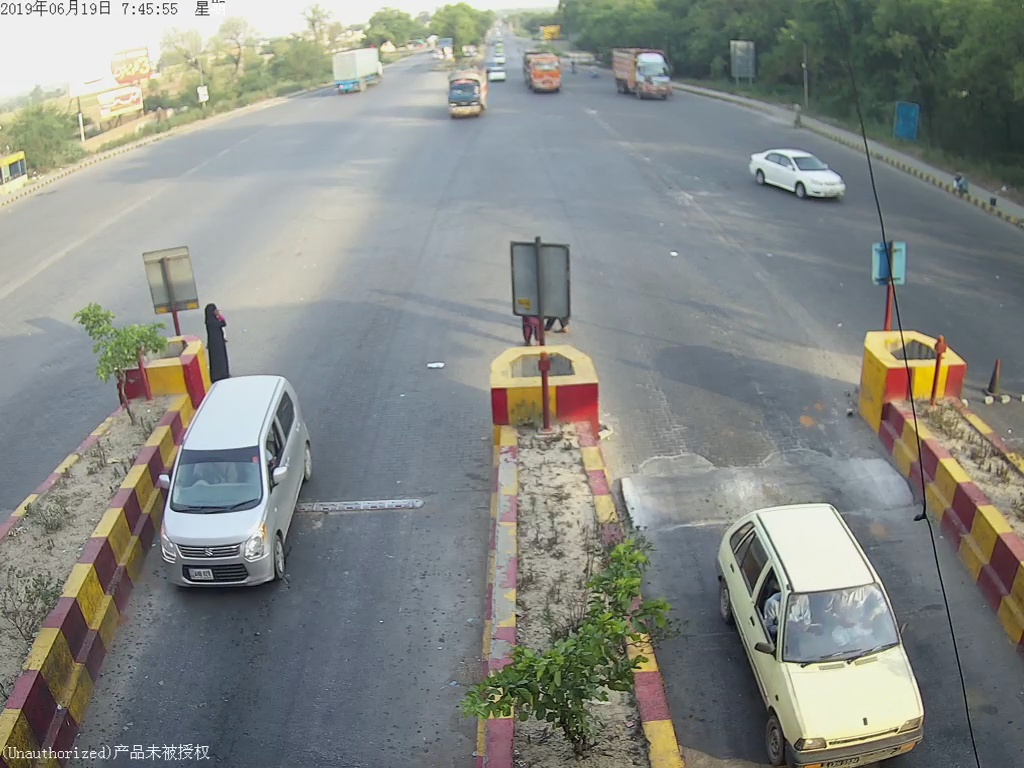Cat-1: (717, 493, 932, 768), (167, 378, 339, 593)
